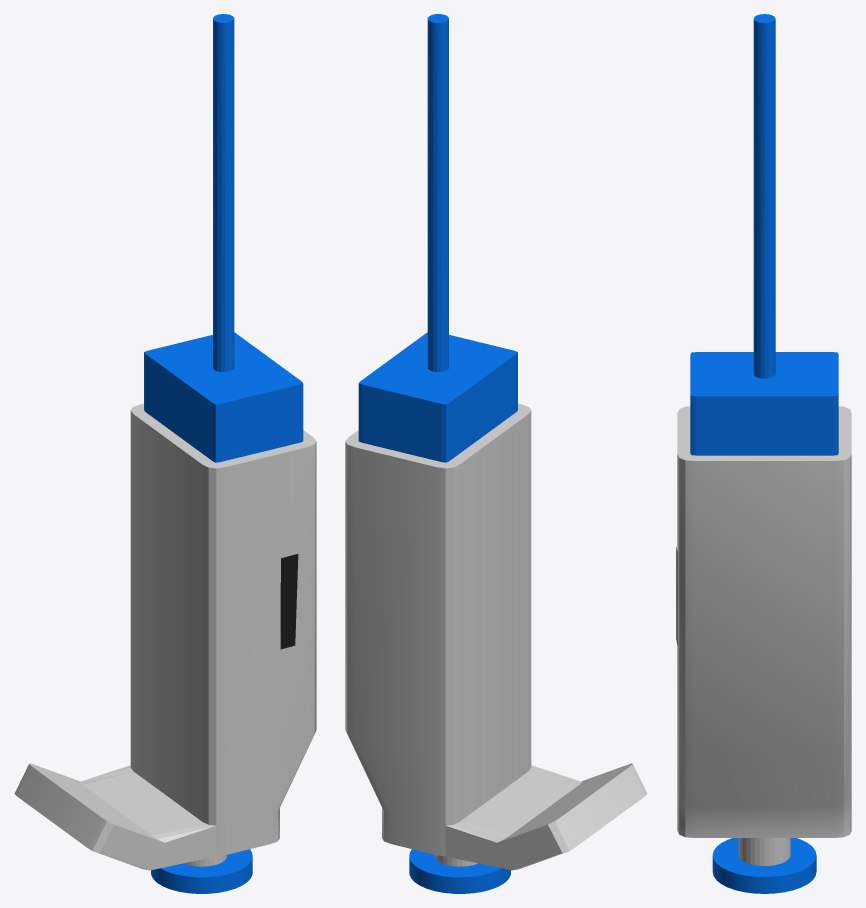
The model's file is liquid_transferor.glb.
3 views of the same model, side by side, from view 1: azimuth 30°, elevation 25°; view 2: azimuth 150°, elevation 25°; view 3: azimuth 270°, elevation 25° (orthographic).
Parts seen in each view (by area): view 1: liquid transferor; view 2: liquid transferor; view 3: liquid transferor.
Part boxes in pixels (x1,y1,x2,y2): liquid transferor: (14, 14, 316, 893); liquid transferor: (345, 14, 647, 893); liquid transferor: (676, 14, 851, 893).
Bounding box in the file's own units: 2.41 × 8.61 × 1.59.
